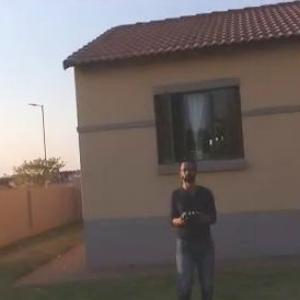follow: (156, 149, 224, 299)
